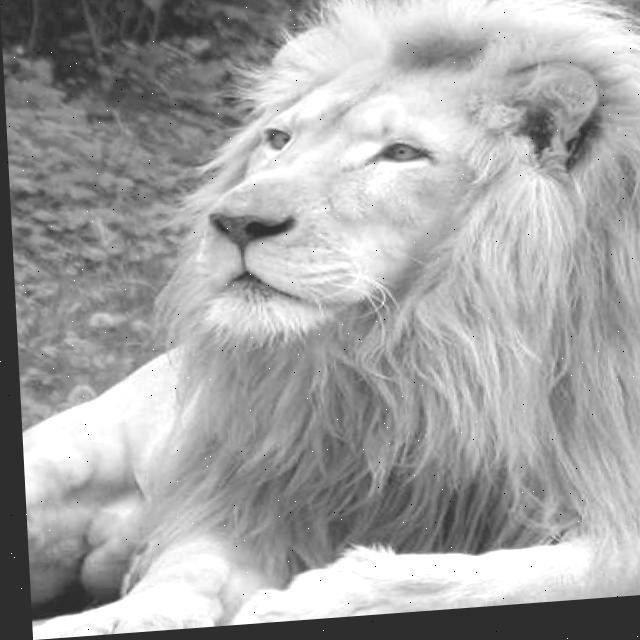Lion: (94, 0, 640, 525)
